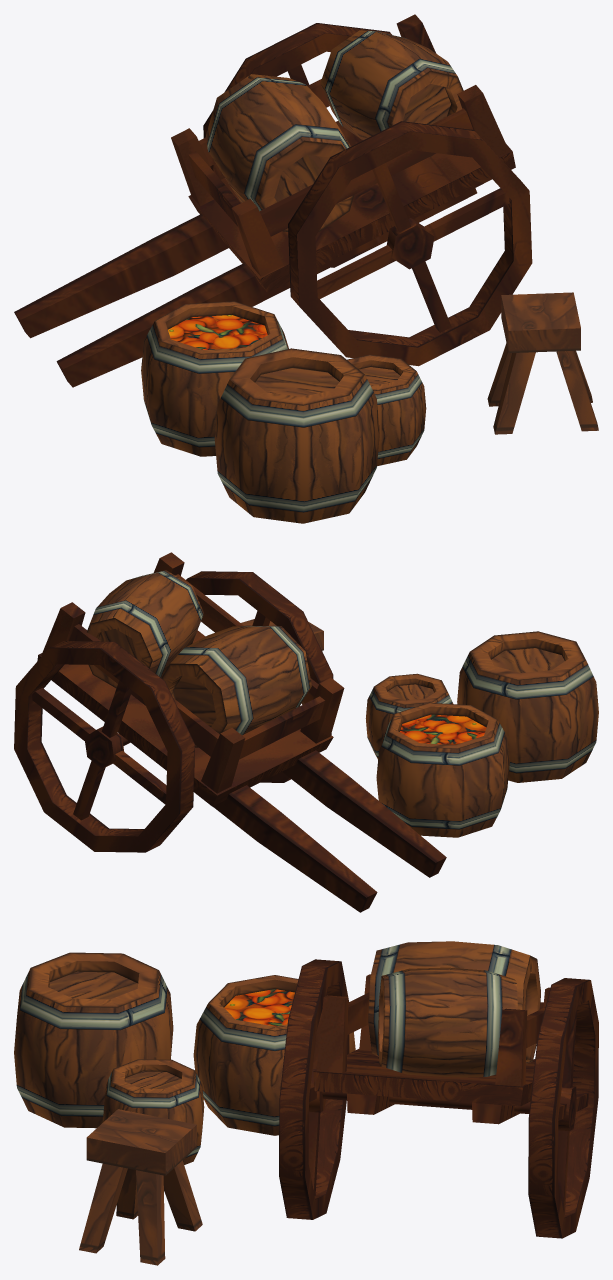
The model's file is TonnenInKar.FBX.
3 renders of one model, top to bottom at view 1: azimuth 30°, elevation 25°; view 2: azimuth 150°, elevation 25°; view 3: azimuth 270°, elevation 25°, orthographic. The views are drawn at different scales.
Parts seen in each view (by area): view 1: Cart_01, Barrel_009, BarrelFruit_02, Barrel_012, Barrel_011, Stoel003, Barrel_010; view 2: Cart_01, Barrel_009, BarrelFruit_02, Barrel_012, Barrel_011, Barrel_010; view 3: Cart_01, Barrel_009, Barrel_011, BarrelFruit_02, Stoel003, Barrel_012, Barrel_010.
Part boxes in pixels (bbox=[...]): Cart_01: bbox=[14, 14, 532, 387]; Barrel_009: bbox=[214, 348, 379, 523]; BarrelFruit_02: bbox=[141, 301, 288, 456]; Barrel_012: bbox=[206, 74, 354, 231]; Barrel_011: bbox=[320, 30, 463, 157]; Stoel003: bbox=[487, 292, 598, 434]; Barrel_010: bbox=[347, 354, 426, 466]; Cart_01: bbox=[14, 552, 446, 912]; Barrel_009: bbox=[457, 631, 598, 782]; BarrelFruit_02: bbox=[376, 702, 509, 837]; Barrel_012: bbox=[161, 626, 311, 747]; Barrel_011: bbox=[87, 570, 203, 688]; Barrel_010: bbox=[365, 673, 453, 759]; Cart_01: bbox=[279, 959, 598, 1238]; Barrel_009: bbox=[14, 952, 173, 1128]; Barrel_011: bbox=[378, 967, 517, 1077]; BarrelFruit_02: bbox=[193, 975, 355, 1135]; Stoel003: bbox=[79, 1109, 202, 1265]; Barrel_012: bbox=[368, 941, 540, 1063]; Barrel_010: bbox=[102, 1059, 204, 1164].
Bounding box in the file's own units: 3.87 × 2.22 × 4.39.
3 materials, 3 textured.
